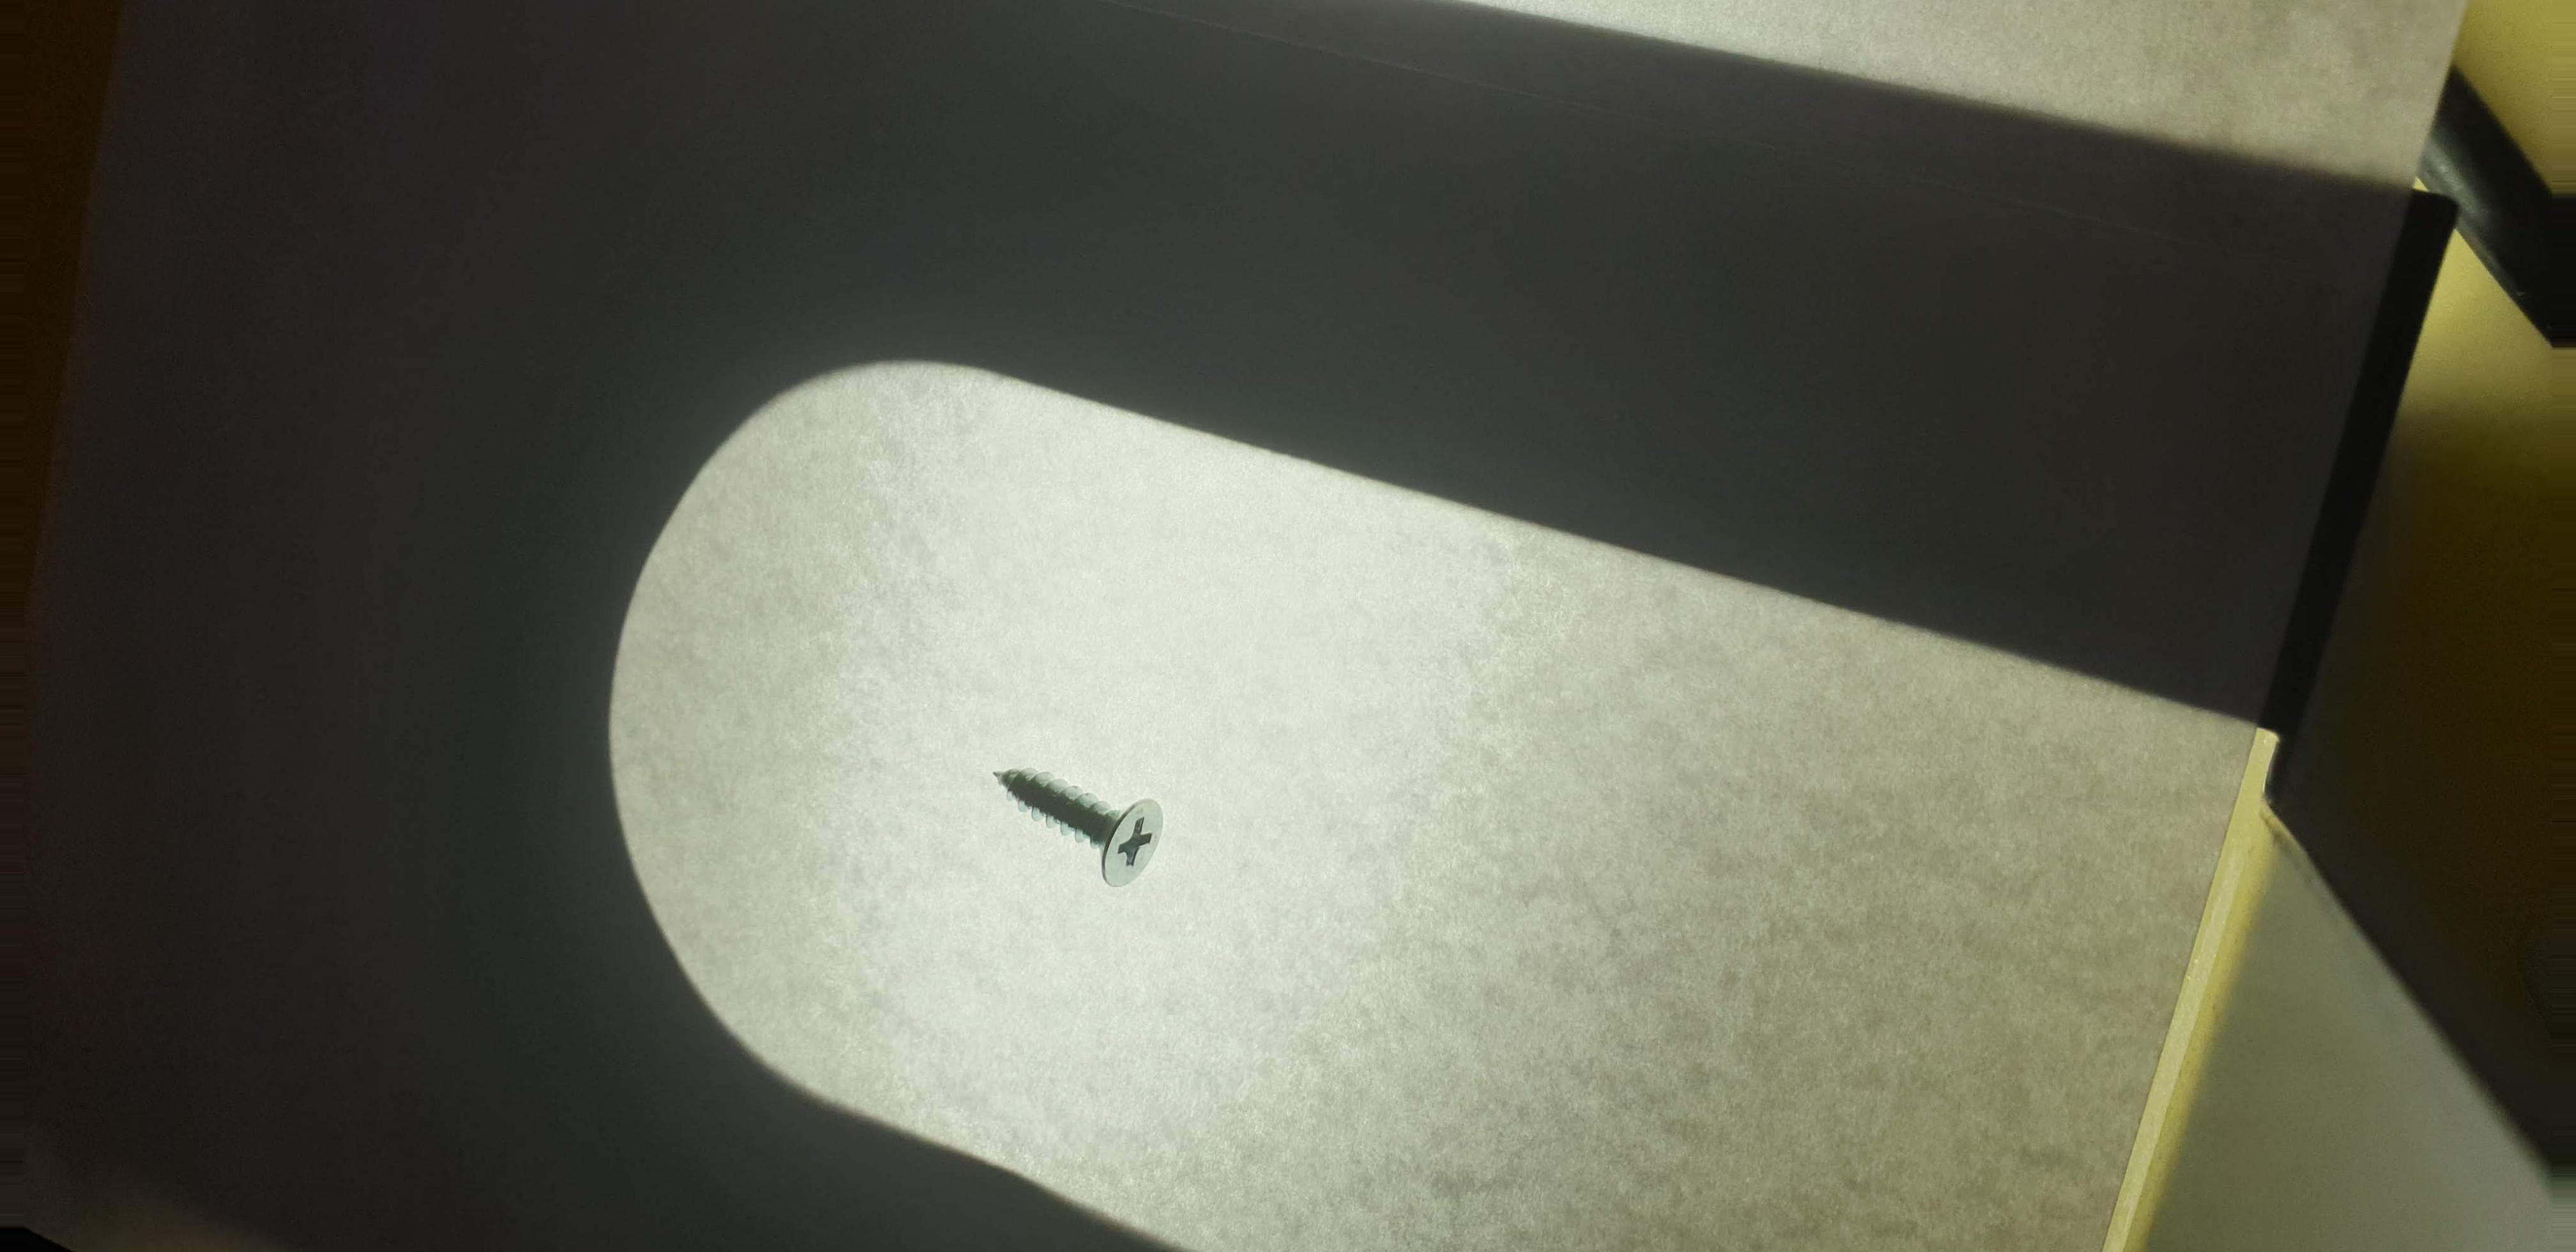S003: (973, 736, 1186, 902)
